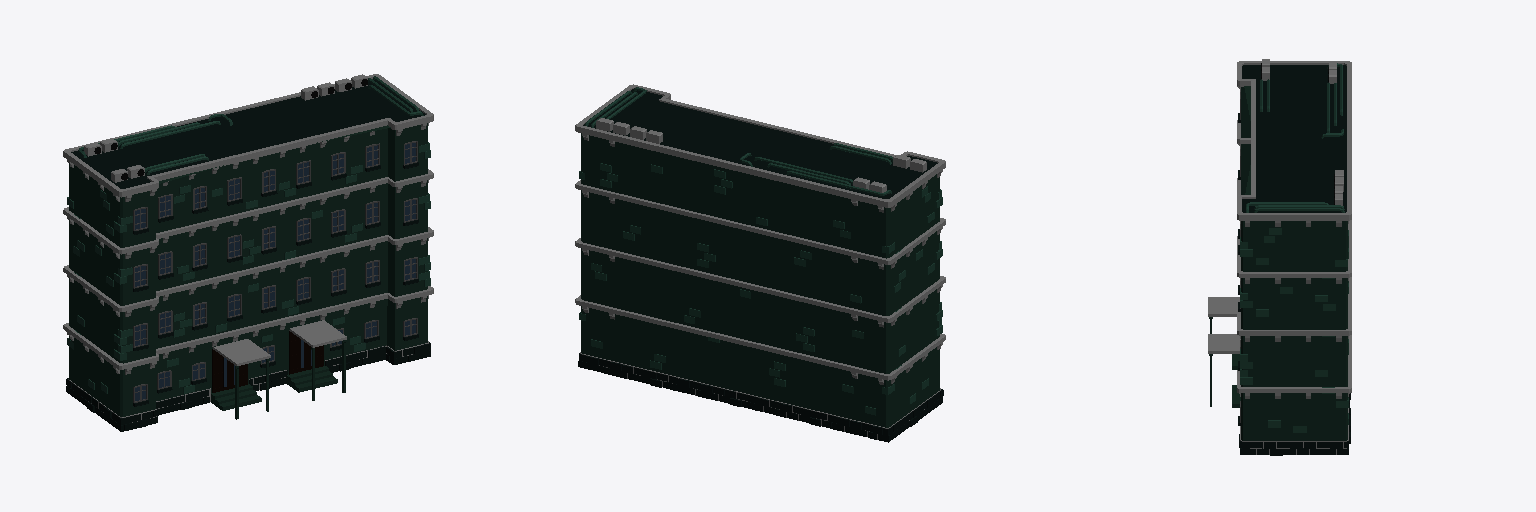
The model's file is 4Story_Wide_2Doors_Mat.obj.
3 views of the same model, side by side, from view 1: azimuth 30°, elevation 25°; view 2: azimuth 150°, elevation 25°; view 3: azimuth 270°, elevation 25° (orthographic).
Parts seen in each view (by area): view 1: 4Story_Wide_2Doors_Mat_Cube.013; view 2: 4Story_Wide_2Doors_Mat_Cube.013; view 3: 4Story_Wide_2Doors_Mat_Cube.013.
Boxes of the visible parts, box(x1,y1,x2,y2) form: 4Story_Wide_2Doors_Mat_Cube.013: box(63, 74, 433, 431); 4Story_Wide_2Doors_Mat_Cube.013: box(575, 84, 945, 442); 4Story_Wide_2Doors_Mat_Cube.013: box(1208, 59, 1351, 455).
Size of the model in its own units: 6.83 by 5.15 by 2.7.